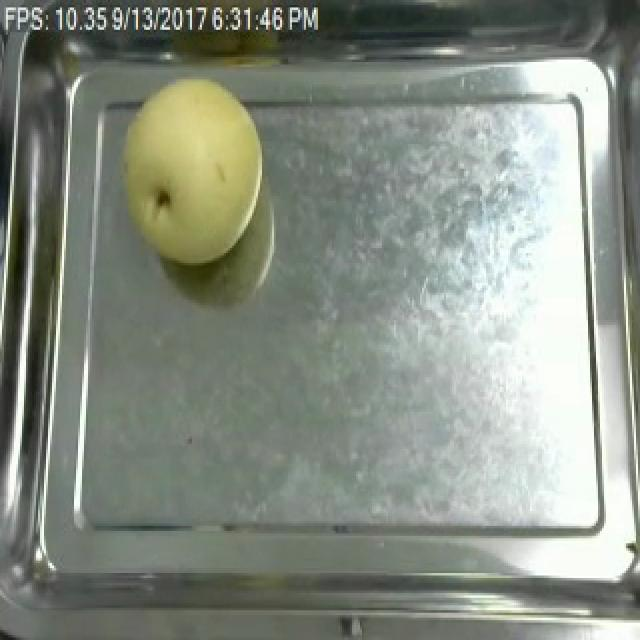Fruit: (102, 67, 272, 273)
